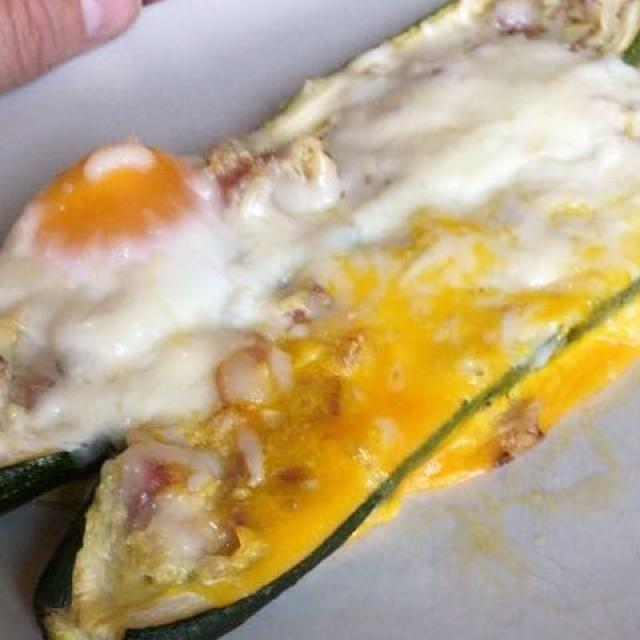egg: (15, 14, 633, 576)
zucchini: (0, 296, 628, 626)
